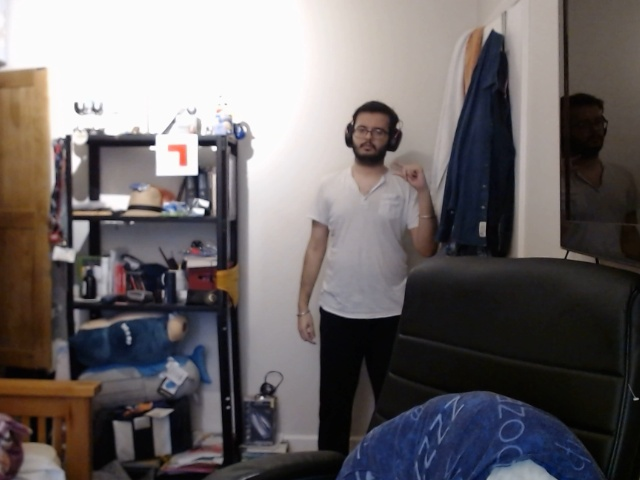Small: (387, 159, 437, 196)
